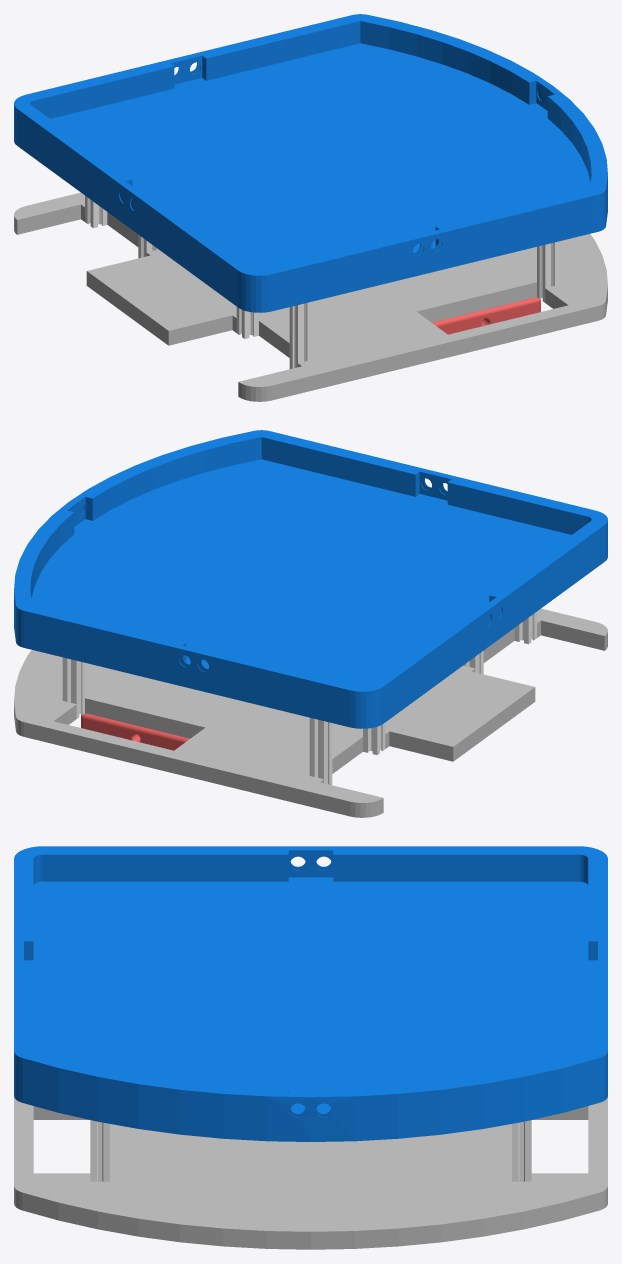
File: hover_base.dae
The picture shows the model from 3 angles, top to bottom: view 1: azimuth 30°, elevation 25°; view 2: azimuth 150°, elevation 25°; view 3: azimuth 270°, elevation 25°; orthographic projection. The views are drawn at different scales.
Visible parts, largest first — view 1: node9, node0, node1, node7, node3, node5; view 2: node9, node0, node2, node6, node4, node8; view 3: node9, node0, node4, node3.
Boxes of the visible parts, x1,y1,x2,y2 form: node9: (14,14,607,312); node0: (14,192,607,401); node1: (432,297,540,334); node7: (289,301,312,368); node3: (537,241,559,302); node5: (236,307,258,338); node9: (14,430,607,728); node0: (14,608,607,817); node2: (81,713,189,750); node6: (309,717,332,784); node4: (62,657,84,718); node8: (363,723,385,754); node9: (14,846,607,1141); node0: (14,1097,607,1249); node4: (512,1120,531,1181); node3: (90,1120,109,1181).
Bounding box in the file's own units: 0.6 × 0.6 × 0.2.
